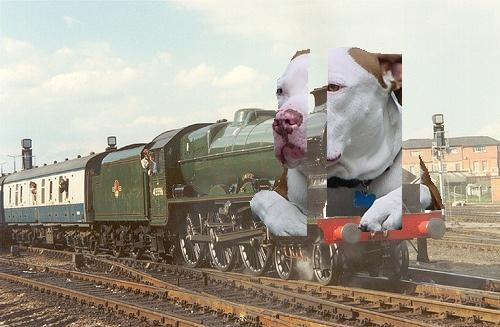tampered: (251, 48, 445, 236)
